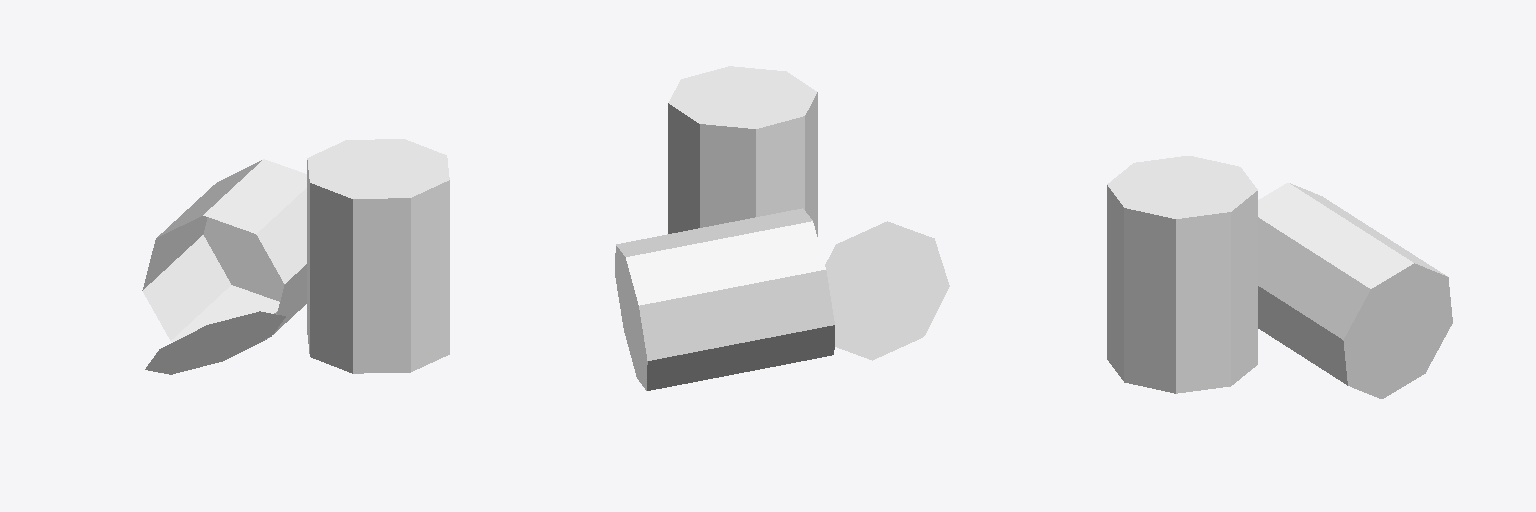
Rendered from metal_cans_debris_2.obj.
3 renders of one model, left to right at view 1: azimuth 30°, elevation 25°; view 2: azimuth 150°, elevation 25°; view 3: azimuth 270°, elevation 25°, orthographic.
Visible parts, largest first — view 1: can_2, can_5, can_5_lid; view 2: can_5, can_2, can_5_lid; view 3: can_2, can_5.
Boxes of the visible parts, x1,y1,x2,y2 form: can_2: [307, 139, 449, 373]; can_5: [142, 159, 306, 341]; can_5_lid: [145, 311, 285, 374]; can_5: [615, 208, 834, 390]; can_2: [668, 66, 817, 236]; can_5_lid: [825, 221, 949, 360]; can_2: [1107, 156, 1257, 393]; can_5: [1258, 183, 1452, 398].
Bounding box in the file's own units: 0.5737 × 0.4121 × 0.6177.